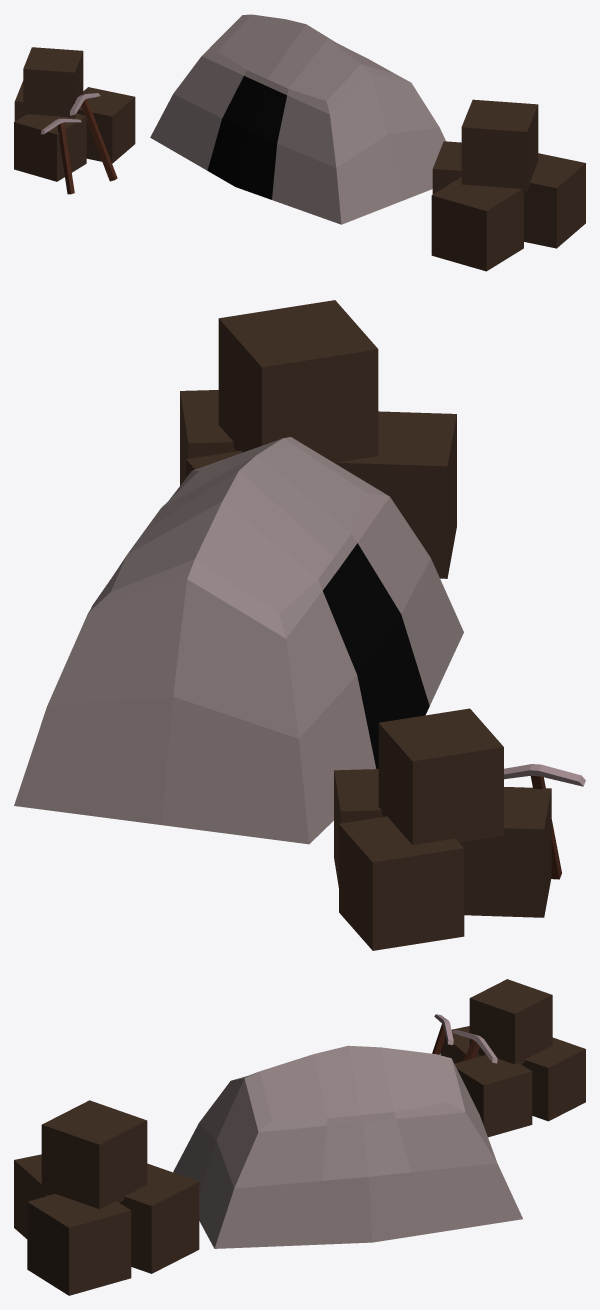
Rendered from Ginger_Mining_Camp.fbx.
3 renders of one model, top to bottom at view 1: azimuth 30°, elevation 25°; view 2: azimuth 150°, elevation 25°; view 3: azimuth 270°, elevation 25°, orthographic. The views are drawn at different scales.
Parts seen in each view (by area): view 1: Cube.033, Cube.040, Cube.041, Cube.038, Cube.037, Cube.036, Cube.034, Cube.039, Cube.043, Cube.042; view 2: Cube.033, Cube.041, Cube.037, Cube.035, Cube.040, Cube.036, Cube.038, Cube.034, Cube.042; view 3: Cube.033, Cube.041, Cube.038, Cube.039, Cube.037, Cube.034, Cube.035, Cube.040, Cube.036, Cube.043, Cube.042.
Part boxes in pixels (bbox=[...]): Cube.033: bbox=[150, 14, 445, 224]; Cube.040: bbox=[431, 177, 523, 271]; Cube.041: bbox=[461, 99, 538, 192]; Cube.038: bbox=[524, 153, 585, 248]; Cube.037: bbox=[23, 47, 83, 117]; Cube.036: bbox=[14, 113, 86, 181]; Cube.034: bbox=[77, 87, 135, 163]; Cube.039: bbox=[432, 141, 461, 194]; Cube.043: bbox=[70, 93, 117, 181]; Cube.042: bbox=[40, 118, 81, 194]; Cube.033: bbox=[14, 437, 463, 844]; Cube.041: bbox=[218, 300, 378, 463]; Cube.037: bbox=[378, 708, 503, 844]; Cube.035: bbox=[339, 816, 464, 950]; Cube.040: bbox=[335, 411, 456, 578]; Cube.036: bbox=[459, 787, 551, 917]; Cube.038: bbox=[180, 390, 236, 485]; Cube.034: bbox=[334, 769, 383, 887]; Cube.042: bbox=[504, 764, 585, 879]; Cube.033: bbox=[173, 1045, 522, 1248]; Cube.041: bbox=[41, 1100, 147, 1208]; Cube.038: bbox=[27, 1194, 131, 1295]; Cube.039: bbox=[119, 1163, 199, 1273]; Cube.037: bbox=[469, 979, 552, 1064]; Cube.034: bbox=[454, 1055, 532, 1137]; Cube.035: bbox=[521, 1037, 585, 1121]; Cube.040: bbox=[14, 1154, 49, 1238]; Cube.036: bbox=[440, 1026, 481, 1063]; Cube.043: bbox=[451, 1029, 497, 1063]; Cube.042: bbox=[432, 1014, 453, 1054].
Bounding box in the file's own units: 136 × 50.41 × 155.
